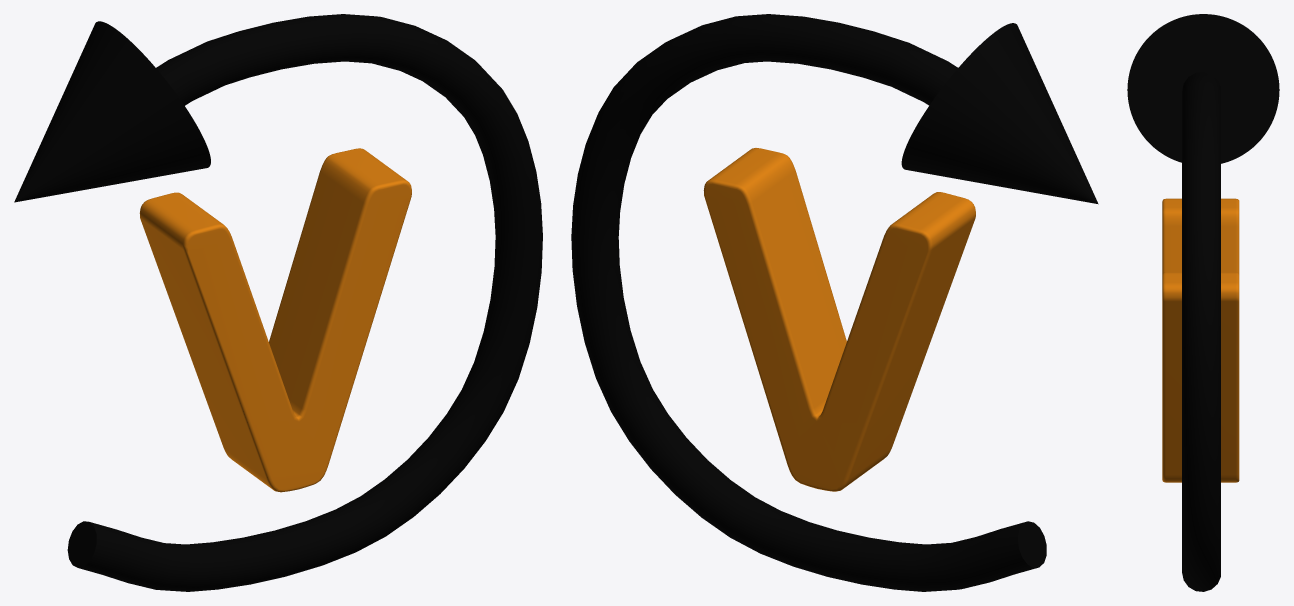
Rendered from icon3d.png.glb.
The picture shows the model from 3 angles, left to right: view 1: azimuth 30°, elevation 25°; view 2: azimuth 150°, elevation 25°; view 3: azimuth 270°, elevation 25°; orthographic projection. The views are drawn at different scales.
Visible parts, largest first — view 1: mesh_id323, node_id333, mesh_id325; view 2: mesh_id323, node_id333, mesh_id325; view 3: mesh_id323, mesh_id325, node_id333.
Boxes of the visible parts, box(x1,y1,x2,y2) form: mesh_id323: box(67, 14, 542, 591); node_id333: box(139, 148, 411, 492); mesh_id325: box(14, 21, 210, 202); mesh_id323: box(571, 14, 1046, 591); node_id333: box(703, 148, 975, 491); mesh_id325: box(901, 23, 1098, 204); mesh_id323: box(1182, 72, 1220, 591); mesh_id325: box(1127, 14, 1279, 163); node_id333: box(1162, 198, 1239, 482).
Bounding box in the file's own units: 0.1901 × 0.2023 × 0.0576.
Materials: 3 (3 with a texture image).
